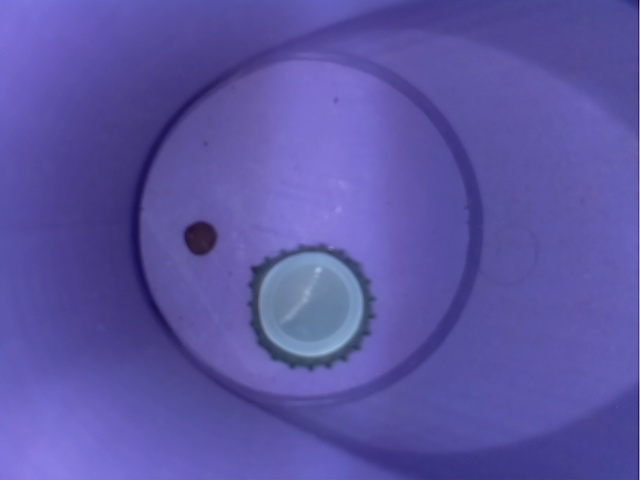capsule: (235, 238, 386, 371)
croquette: (174, 210, 224, 268)
